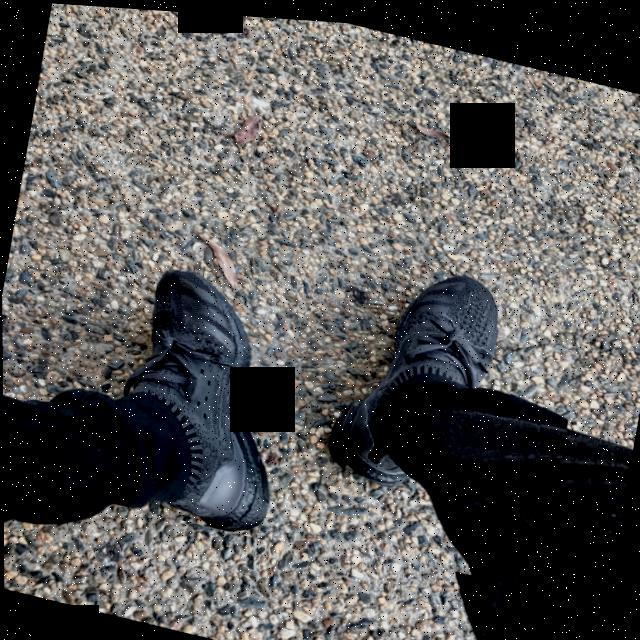shoe: (318, 214, 594, 591), (56, 199, 321, 541)
